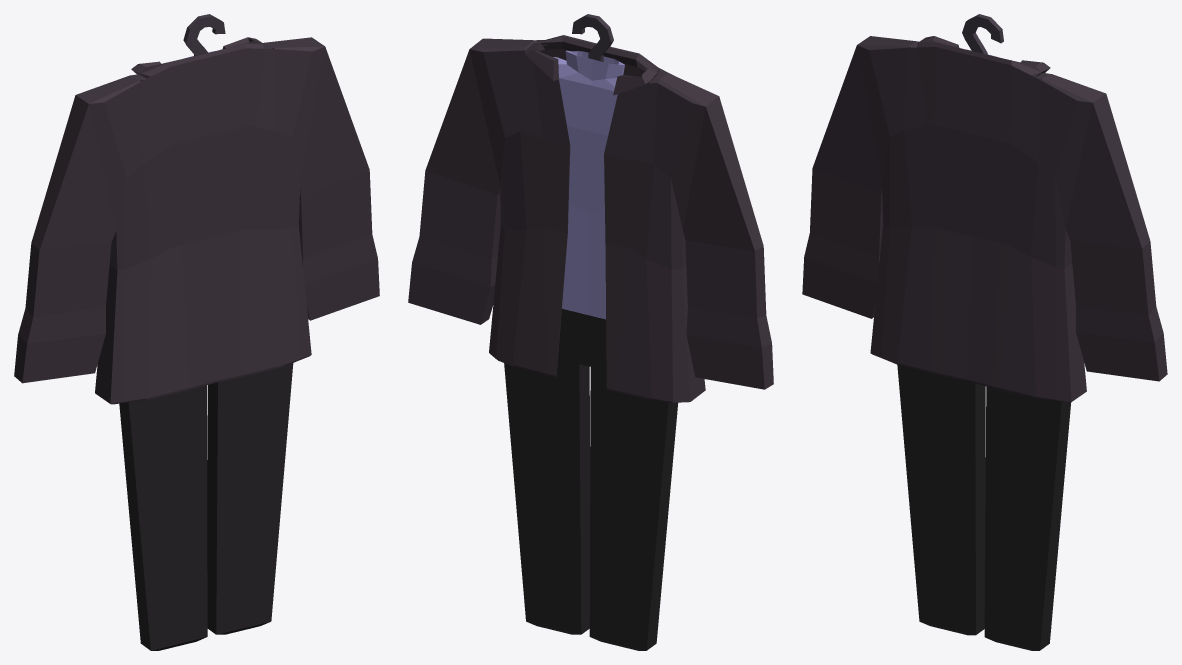
File: clothes_4.fbx
3 renders of one model, left to right at view 1: azimuth 30°, elevation 25°; view 2: azimuth 150°, elevation 25°; view 3: azimuth 330°, elevation 25°, orthographic.
Visible parts, largest first — view 1: jacket4.1, pants4, 4; view 2: jacket4.1, pants4, shirt4, 4; view 3: jacket4.1, pants4, 4.
Boxes of the visible parts, x1,y1,x2,y2 form: jacket4.1: (14, 37, 379, 404); pants4: (119, 363, 293, 650); 4: (183, 14, 225, 56); jacket4.1: (408, 35, 773, 402); pants4: (504, 308, 678, 650); shirt4: (553, 50, 624, 319); 4: (572, 14, 613, 62); jacket4.1: (802, 36, 1167, 402); pants4: (897, 365, 1071, 650); 4: (962, 14, 1003, 54).
Bounding box in the file's own units: 70.03 × 9.48 × 116.
